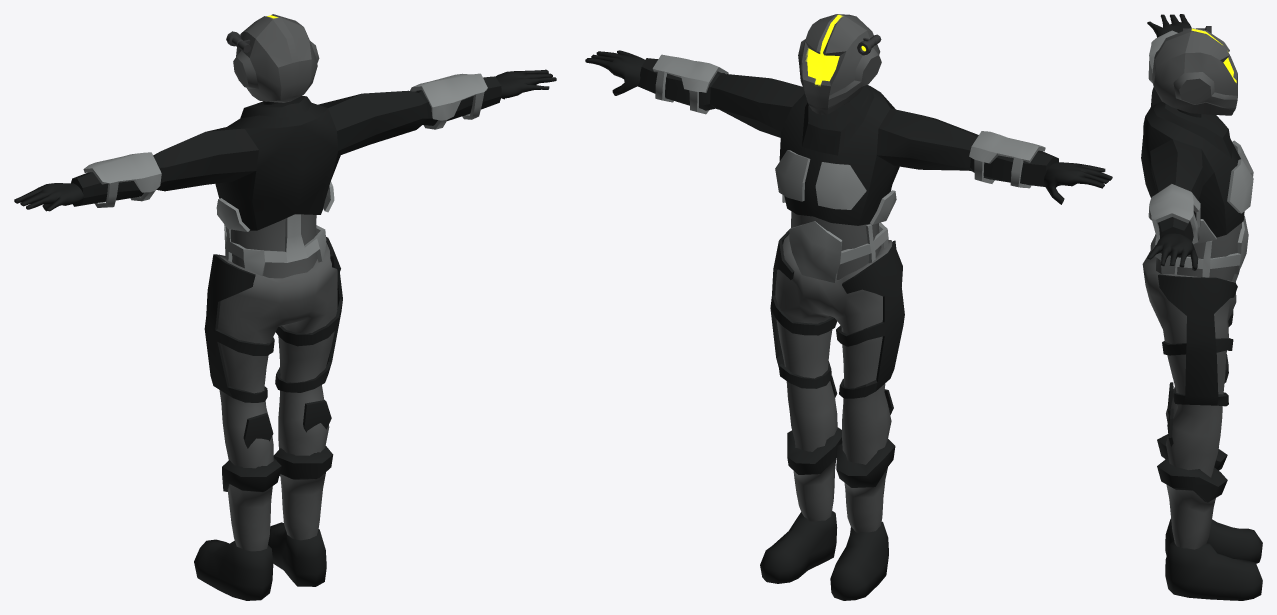
The model's file is yellow_marine.gltf.
3 renders of one model, left to right at view 1: azimuth 30°, elevation 25°; view 2: azimuth 150°, elevation 25°; view 3: azimuth 270°, elevation 25°, orthographic. The views are drawn at different scales.
Visible parts, largest first — view 1: pasted__polySurface1952.001, polySurface1296.001, polySurface1310.001, polySurface1308.001, polySurface1298.001, polySurface1307.001, polySurface1301.001, pCylinder1.001, polySurface1309.001, polySurface1304.001, polySurface1300.001, polySurface1313.001; view 2: pasted__polySurface1952.001, polySurface1296.001, polySurface1298.001, polySurface1308.001, polySurface1310.001, polySurface1307.001, polySurface1301.001, polySurface1313.001, polySurface1304.001, polySurface1309.001, pCylinder1.001; view 3: pasted__polySurface1952.001, polySurface1296.001, polySurface1308.001, polySurface1307.001, polySurface1298.001, polySurface1310.001, polySurface1301.001, polySurface1309.001, polySurface1304.001, polySurface1313.001, pCylinder1.001, polySurface1300.001.
Boxes of the visible parts, x1,y1,x2,y2 form: pasted__polySurface1952.001: (71,76,501,230); polySurface1296.001: (217,242,337,468); polySurface1310.001: (222,446,333,551); polySurface1308.001: (194,522,326,600); polySurface1298.001: (204,237,342,402); polySurface1307.001: (233,14,319,104); polySurface1301.001: (83,73,487,207); pCylinder1.001: (225,214,317,278); polySurface1309.001: (14,69,556,211); polySurface1304.001: (224,214,326,275); polySurface1300.001: (243,400,331,448); polySurface1313.001: (216,181,334,231); pasted__polySurface1952.001: (638,58,1058,225); polySurface1296.001: (775,234,892,464); polySurface1298.001: (770,228,904,398); polySurface1308.001: (760,511,888,600); polySurface1310.001: (787,427,895,532); polySurface1307.001: (798,14,881,114); polySurface1301.001: (652,54,1045,188); polySurface1313.001: (775,150,896,224); polySurface1304.001: (789,221,888,282); polySurface1309.001: (585,50,1112,204); pCylinder1.001: (791,211,881,279); pasted__polySurface1952.001: (1141,30,1244,241); polySurface1296.001: (1142,251,1236,477); polySurface1308.001: (1165,519,1262,600); polySurface1307.001: (1152,28,1237,117); polySurface1298.001: (1158,274,1237,406); polySurface1310.001: (1157,434,1227,549); polySurface1301.001: (1148,30,1200,243); polySurface1309.001: (1147,14,1198,270); polySurface1304.001: (1150,216,1248,282); polySurface1313.001: (1193,140,1253,244); pCylinder1.001: (1156,223,1241,280); polySurface1300.001: (1167,382,1173,446).
Size of the model in its own units: 1.79 by 1.82 by 0.3684.
2 materials, 2 textured.
